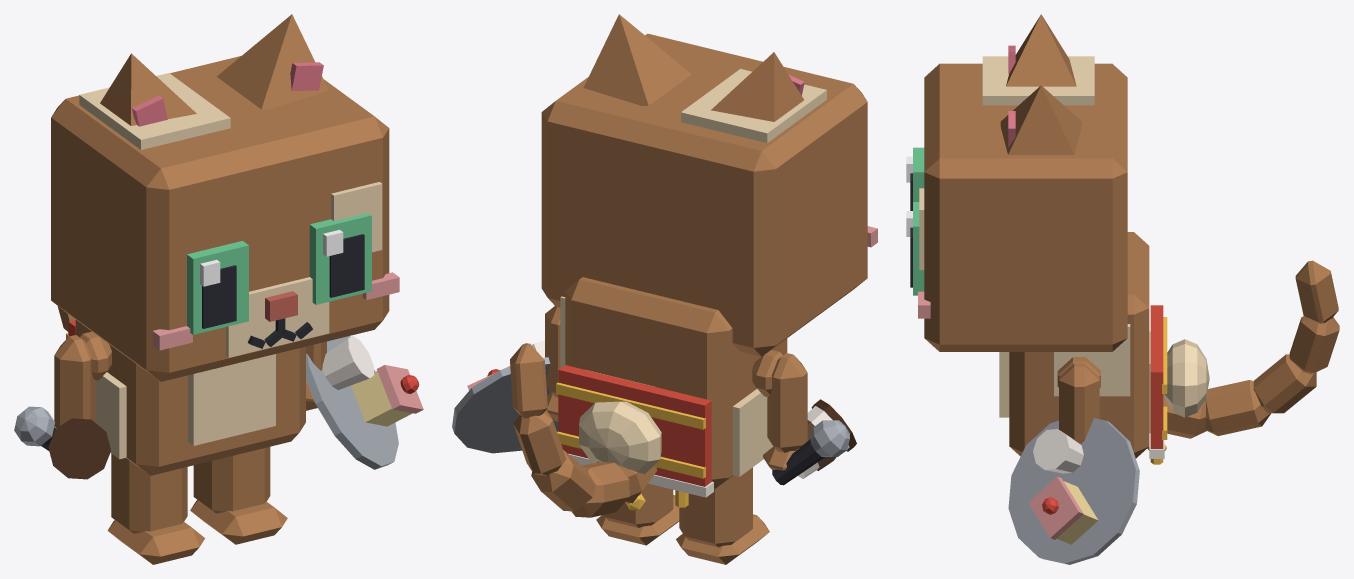
File: CatCafe_Cat_Camel_Work.glb
3 renders of one model, left to right at view 1: azimuth 30°, elevation 25°; view 2: azimuth 150°, elevation 25°; view 3: azimuth 270°, elevation 25°, orthographic. The views are drawn at different scales.
Parts seen in each view (by area): view 1: CatCafe_Cat_Camel_Work_Head, CatCafe_Cat_Camel_Work_Body, CatCafe_Cat_Camel_Work_Held_Waiter, CatCafe_Cat_Camel_Work_LegB2, CatCafe_Cat_Camel_Work_LegB1, CatCafe_Cat_Camel_Work_EarL, CatCafe_Cat_Camel_Work_Eye2, CatCafe_Cat_Camel_Work_Eye1, CatCafe_Cat_Camel_Work_EarR, CatCafe_Cat_Camel_Work_LegF2, CatCafe_Cat_Camel_Work_Held_Barista, CatCafe_Cat_Camel_Work_Held_Entertainer (+1 smaller); view 2: CatCafe_Cat_Camel_Work_Head, CatCafe_Cat_Camel_Work_Body, CatCafe_Cat_Camel_Work_Prop, CatCafe_Cat_Camel_Work_Tail, CatCafe_Cat_Camel_Work_LegB2, CatCafe_Cat_Camel_Work_EarL, CatCafe_Cat_Camel_Work_Held_Waiter, CatCafe_Cat_Camel_Work_LegF2, CatCafe_Cat_Camel_Work_EarR, CatCafe_Cat_Camel_Work_LegB1, CatCafe_Cat_Camel_Work_Held_Entertainer, CatCafe_Cat_Camel_Work_LegF1 (+1 smaller); view 3: CatCafe_Cat_Camel_Work_Head, CatCafe_Cat_Camel_Work_Held_Waiter, CatCafe_Cat_Camel_Work_Body, CatCafe_Cat_Camel_Work_Tail, CatCafe_Cat_Camel_Work_Prop, CatCafe_Cat_Camel_Work_EarL, CatCafe_Cat_Camel_Work_EarR, CatCafe_Cat_Camel_Work_LegF1, CatCafe_Cat_Camel_Work_Eye1, CatCafe_Cat_Camel_Work_Eye2.
Boxes of the visible parts, <box> form: CatCafe_Cat_Camel_Work_Head: <box>51,56,399,381</box>; CatCafe_Cat_Camel_Work_Body: <box>75,320,305,475</box>; CatCafe_Cat_Camel_Work_Held_Waiter: <box>306,335,423,469</box>; CatCafe_Cat_Camel_Work_LegB2: <box>107,453,205,564</box>; CatCafe_Cat_Camel_Work_LegB1: <box>190,447,287,544</box>; CatCafe_Cat_Camel_Work_EarL: <box>216,14,328,109</box>; CatCafe_Cat_Camel_Work_Eye2: <box>187,241,248,334</box>; CatCafe_Cat_Camel_Work_Eye1: <box>309,213,371,304</box>; CatCafe_Cat_Camel_Work_EarR: <box>100,53,196,126</box>; CatCafe_Cat_Camel_Work_LegF2: <box>54,335,96,427</box>; CatCafe_Cat_Camel_Work_Held_Barista: <box>48,418,110,479</box>; CatCafe_Cat_Camel_Work_Held_Entertainer: <box>14,406,55,450</box>; CatCafe_Cat_Camel_Work_Head: <box>541,33,877,356</box>; CatCafe_Cat_Camel_Work_Body: <box>560,277,787,488</box>; CatCafe_Cat_Camel_Work_Prop: <box>556,365,713,510</box>; CatCafe_Cat_Camel_Work_Tail: <box>510,343,656,517</box>; CatCafe_Cat_Camel_Work_LegB2: <box>676,467,769,564</box>; CatCafe_Cat_Camel_Work_EarL: <box>583,14,691,105</box>; CatCafe_Cat_Camel_Work_Held_Waiter: <box>452,340,558,453</box>; CatCafe_Cat_Camel_Work_LegF2: <box>763,353,807,470</box>; CatCafe_Cat_Camel_Work_EarR: <box>711,52,804,121</box>; CatCafe_Cat_Camel_Work_LegB1: <box>596,483,679,545</box>; CatCafe_Cat_Camel_Work_Held_Entertainer: <box>772,420,849,485</box>; CatCafe_Cat_Camel_Work_LegF1: <box>545,306,560,421</box>; CatCafe_Cat_Camel_Work_Head: <box>918,56,1127,351</box>; CatCafe_Cat_Camel_Work_Held_Waiter: <box>1008,418,1139,564</box>; CatCafe_Cat_Camel_Work_Body: <box>999,232,1150,458</box>; CatCafe_Cat_Camel_Work_Tail: <box>1163,260,1339,438</box>; CatCafe_Cat_Camel_Work_Prop: <box>1147,305,1209,464</box>; CatCafe_Cat_Camel_Work_EarL: <box>1000,85,1081,154</box>; CatCafe_Cat_Camel_Work_EarR: <box>1006,14,1076,86</box>; CatCafe_Cat_Camel_Work_LegF1: <box>1059,363,1099,444</box>; CatCafe_Cat_Camel_Work_Eye1: <box>906,202,924,295</box>; CatCafe_Cat_Camel_Work_Eye2: <box>906,147,924,210</box>.
Bounding box in the file's own units: 1.53 × 1.93 × 1.62.
1 material, 1 textured.
